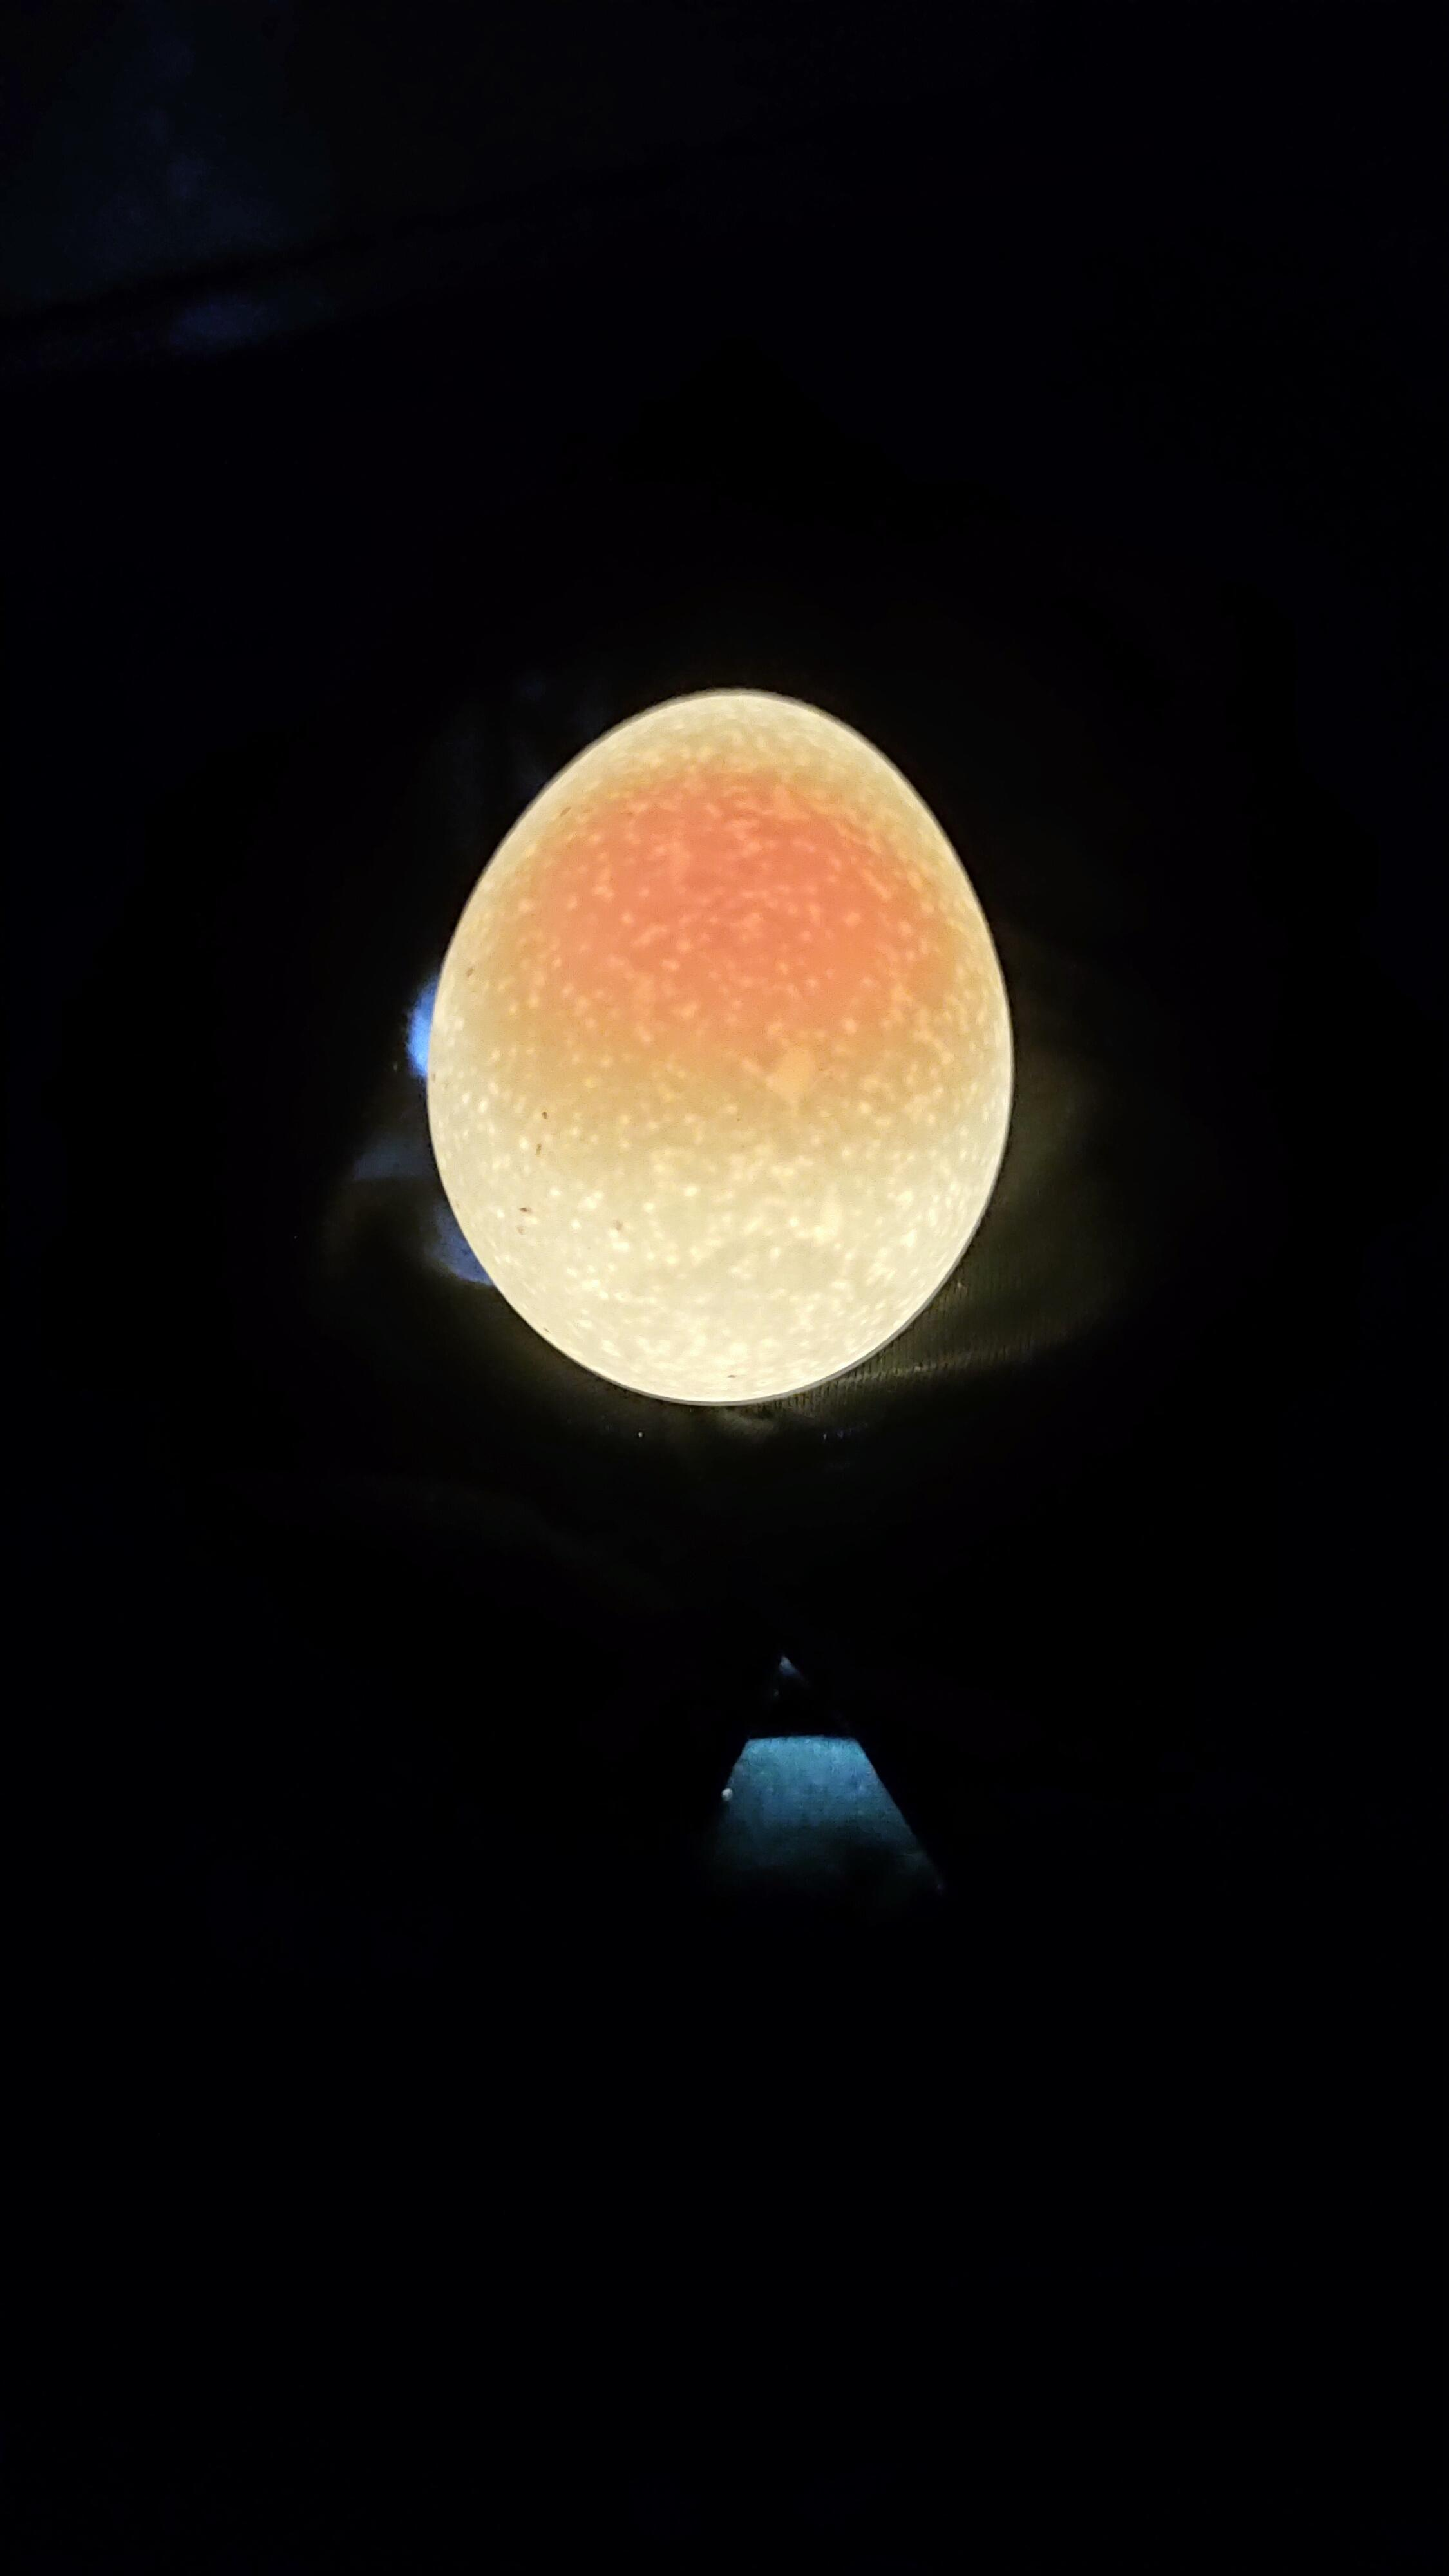Inedible: (400, 632, 1044, 1488)
